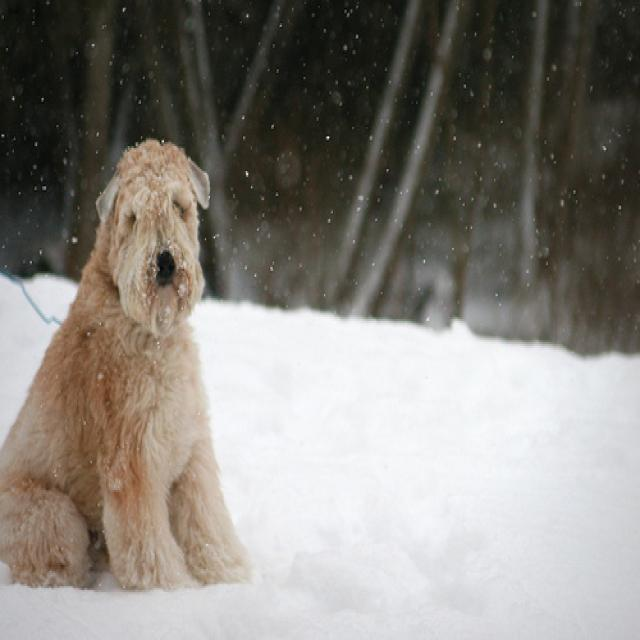dog-wheaten_terrier: (1, 129, 256, 609)
